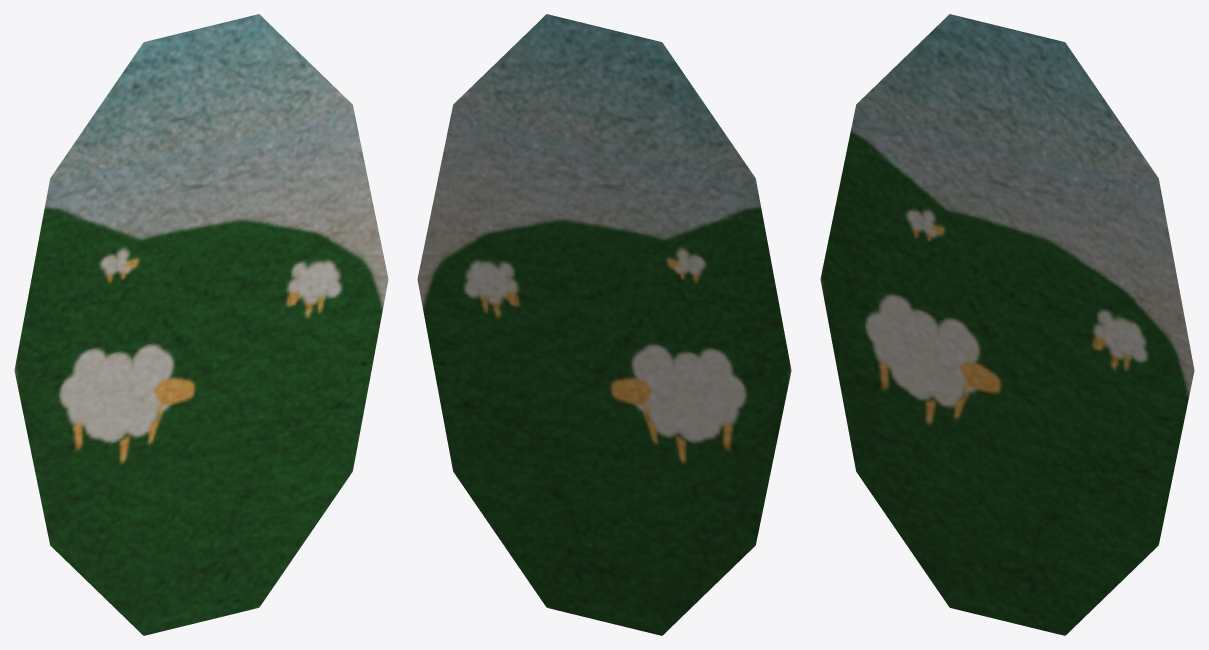
Rendered from painting_circle2.fbx.
3 views of the same model, side by side, from view 1: azimuth 30°, elevation 25°; view 2: azimuth 150°, elevation 25°; view 3: azimuth 330°, elevation 25° (orthographic).
Visible parts, largest first — view 1: pCylinder2; view 2: pCylinder2; view 3: pCylinder2.
Part boxes in pixels (x1,y1,x2,y2): pCylinder2: (14, 14, 388, 635); pCylinder2: (417, 14, 791, 635); pCylinder2: (820, 14, 1194, 635).
Size of the model in its own units: 121 by 183 by 1.42e-14.
